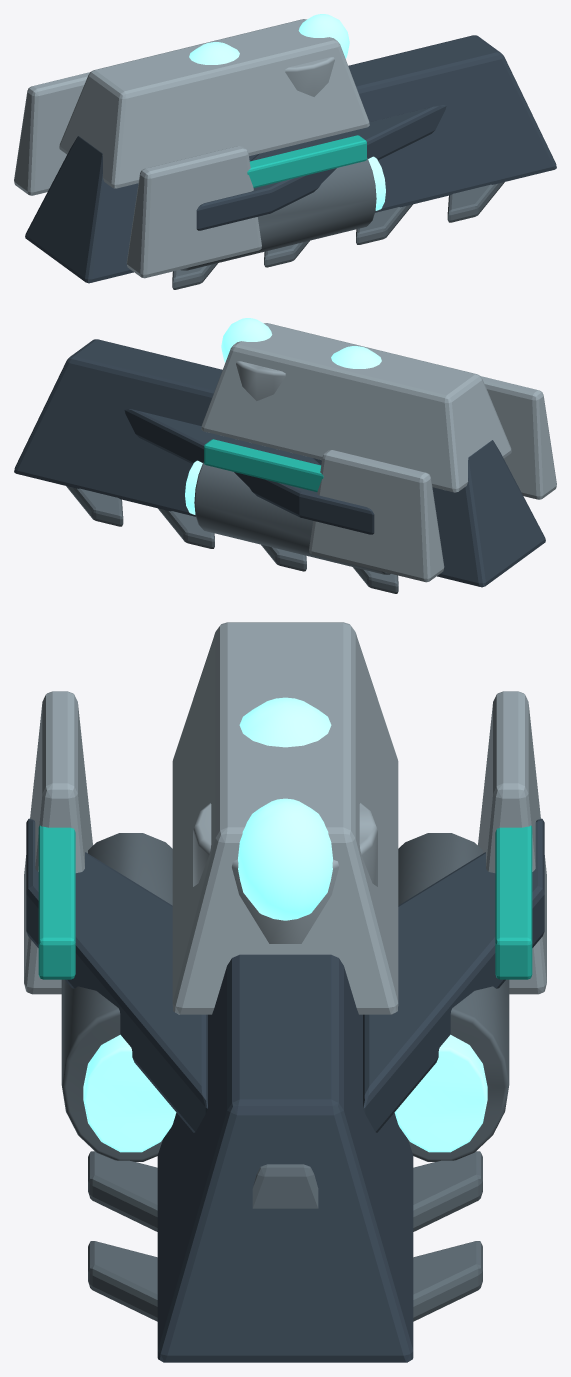
The model's file is SM_Skim.fbx.
The picture shows the model from 3 angles, top to bottom: view 1: azimuth 30°, elevation 25°; view 2: azimuth 150°, elevation 25°; view 3: azimuth 270°, elevation 25°; orthographic projection. The views are drawn at different scales.
Parts seen in each view (by area): view 1: SM_Skim; view 2: SM_Skim; view 3: SM_Skim.
Boxes of the visible parts, x1,y1,x2,y2 form: SM_Skim: (14, 14, 556, 289); SM_Skim: (14, 318, 556, 593); SM_Skim: (24, 622, 546, 1362).
Size of the model in its own units: 36 by 17.29 by 14.
